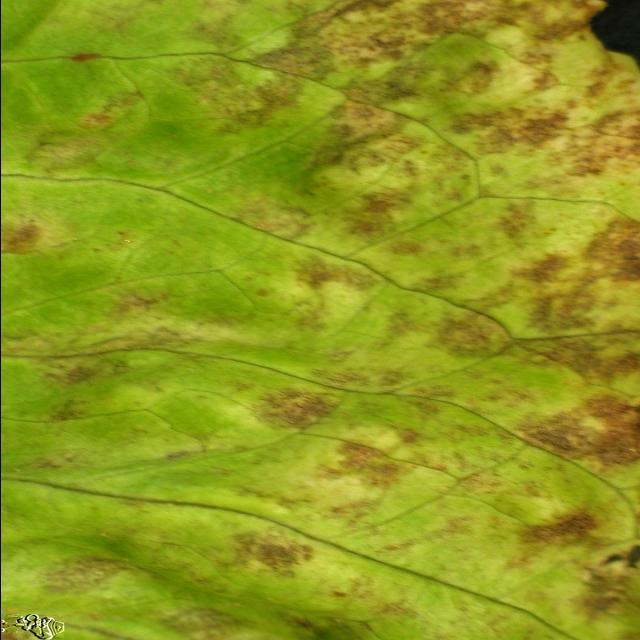Septoria_Blight_on_lettuce: (107, 7, 621, 616)
